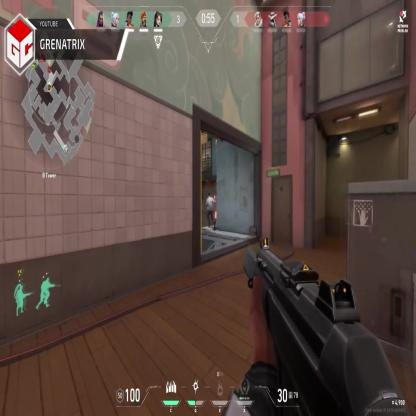enemy: (206, 193, 216, 229)
enemy_head: (208, 192, 210, 198)
